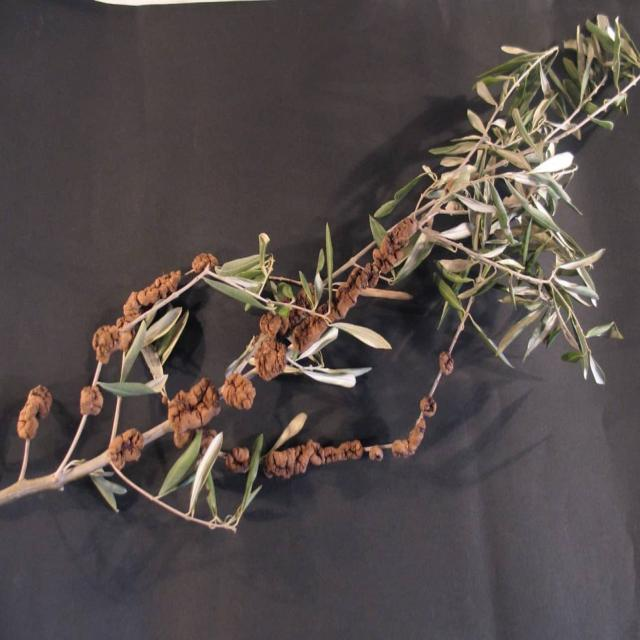Tuberculosis: (92, 270, 181, 364), (264, 439, 364, 479), (167, 377, 221, 449), (328, 263, 376, 322), (373, 216, 417, 273), (17, 385, 52, 454), (253, 312, 288, 381), (107, 429, 144, 473), (390, 415, 426, 457), (291, 316, 330, 354), (220, 373, 256, 410), (219, 447, 250, 475), (79, 387, 103, 419), (190, 253, 219, 274), (439, 351, 456, 376), (419, 394, 437, 417), (366, 445, 383, 461)
